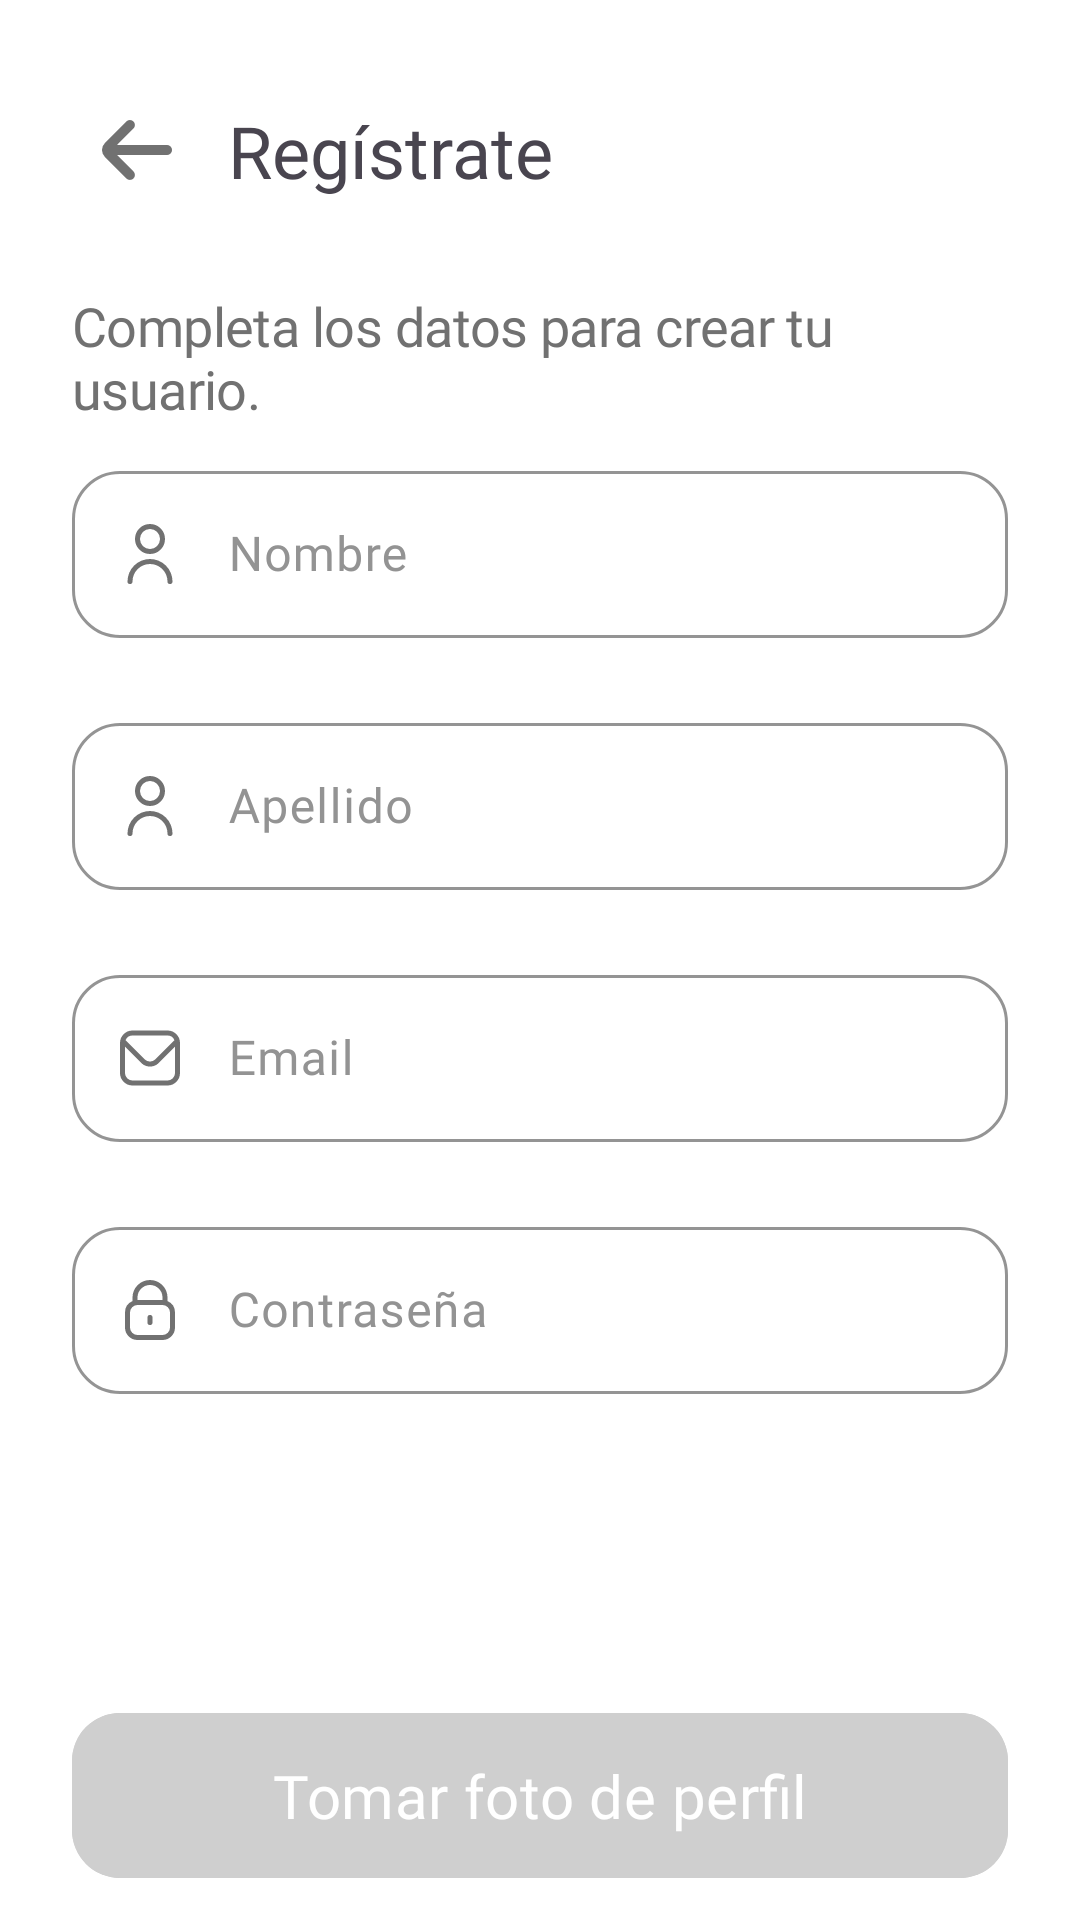

Locate icon controls on the screen. Image size 1080*1920, boxes as (x1, y1, x2, y2).
back: (102, 120, 172, 180)
